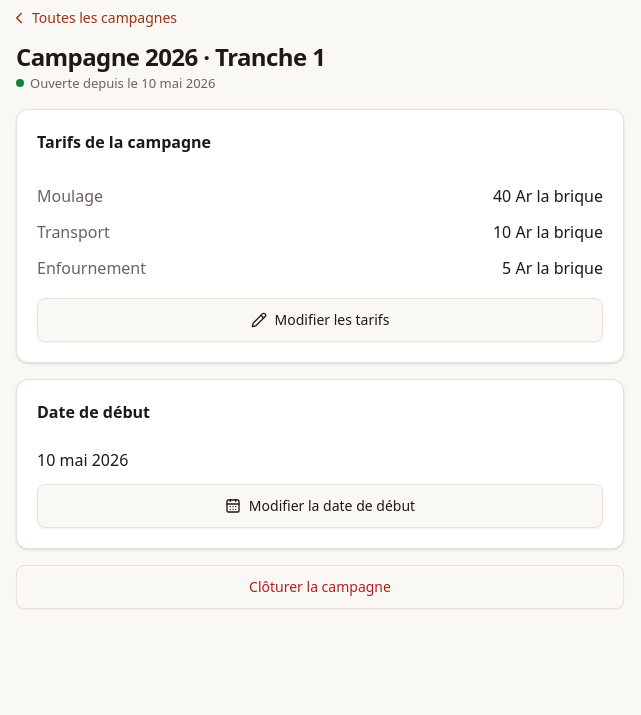
Test: CampaignPage › closes an open campaign on the chosen date and shows it closed
Click the button "Clôturer la campagne" at coordinates (320, 587), box [16,565,624,609]
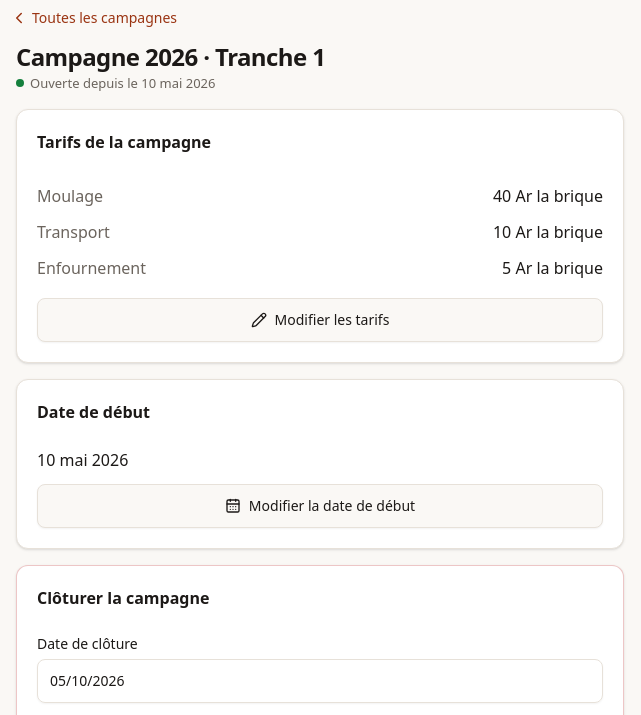
Replace the text in the field labelled "Date de clôture" with "30/11/2026" at coordinates (320, 681), box [37,659,603,703]
(page scrolled)
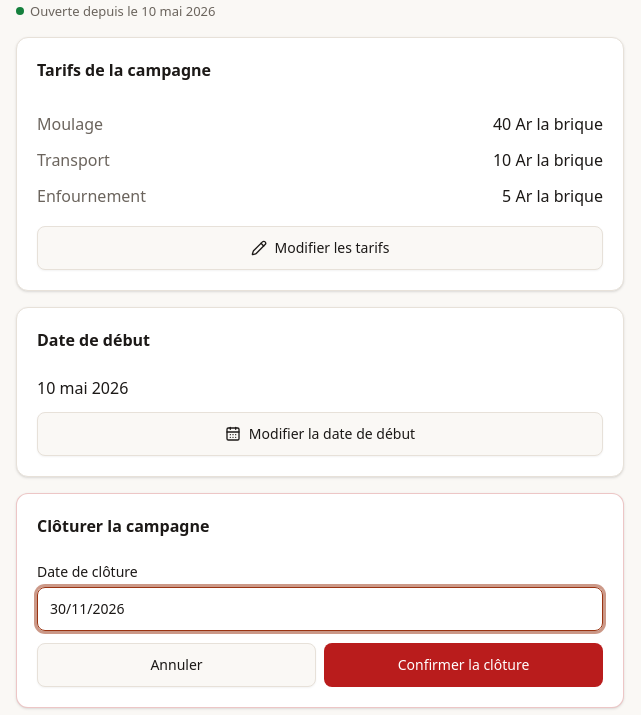
Click the button "Confirmer la clôture" at coordinates (464, 665), box [324,643,603,687]
(page scrolled)
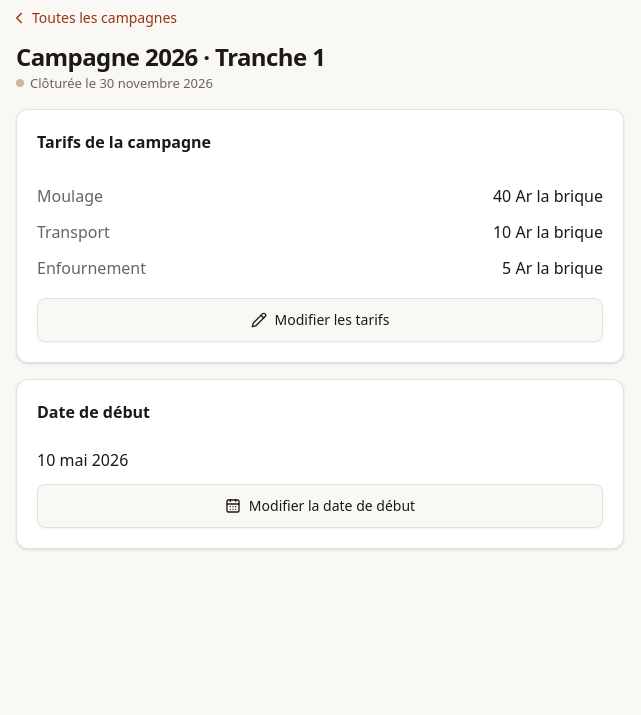
expect the text "Clôturée le 30 novembre 2026" is shown: met, box [16,74,213,92]
expect the heading "Clôturer la campagne" is gone: met
